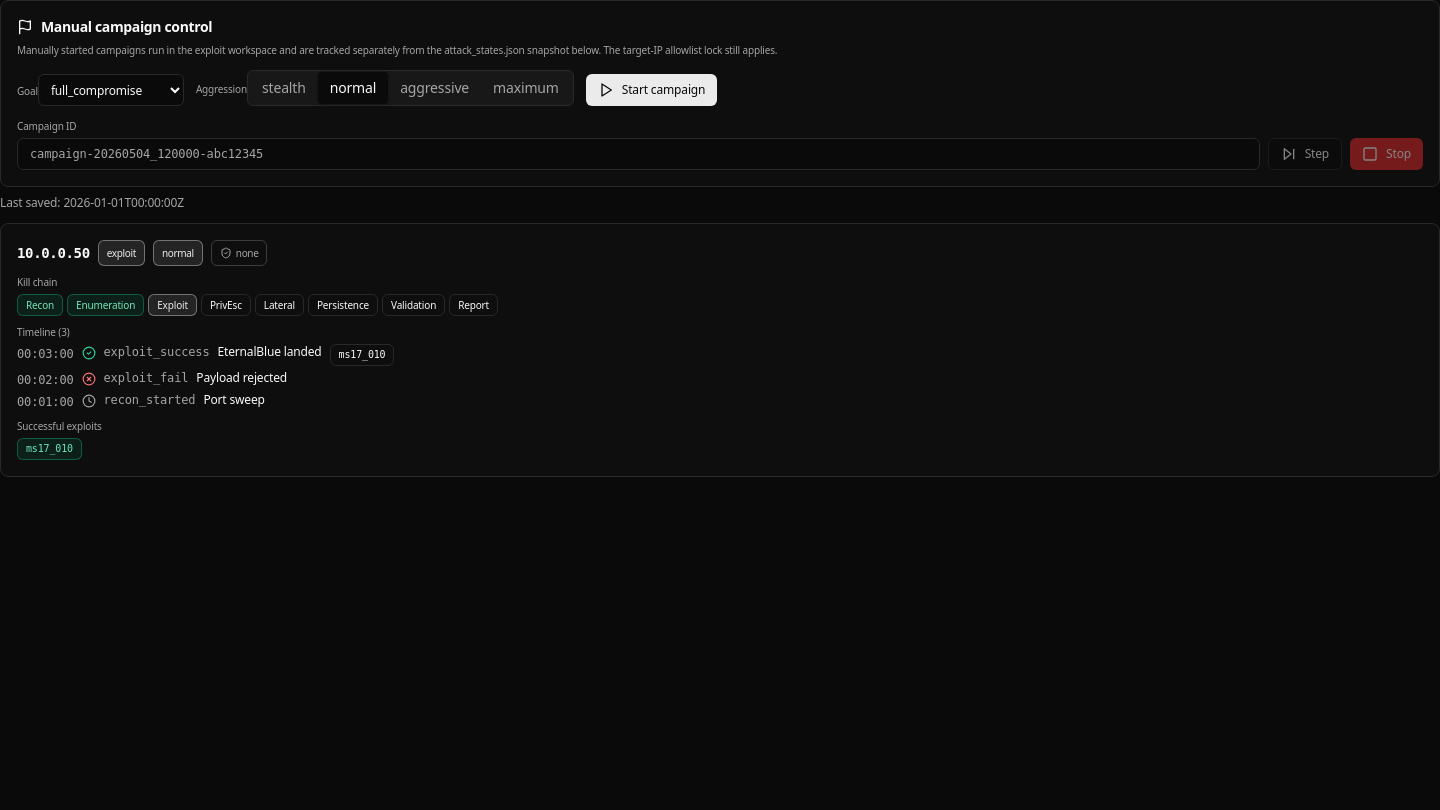
Test: Campaign manual controls › step/stop are disabled without a campaign id and enabled once one is set
Expected: the button "Step" is disabled, [1268,138,1342,170]
Expected: the button "Stop" is disabled, [1350,138,1423,170]
Click the button "Start campaign": coordinates (652, 90) [586,74,717,106]
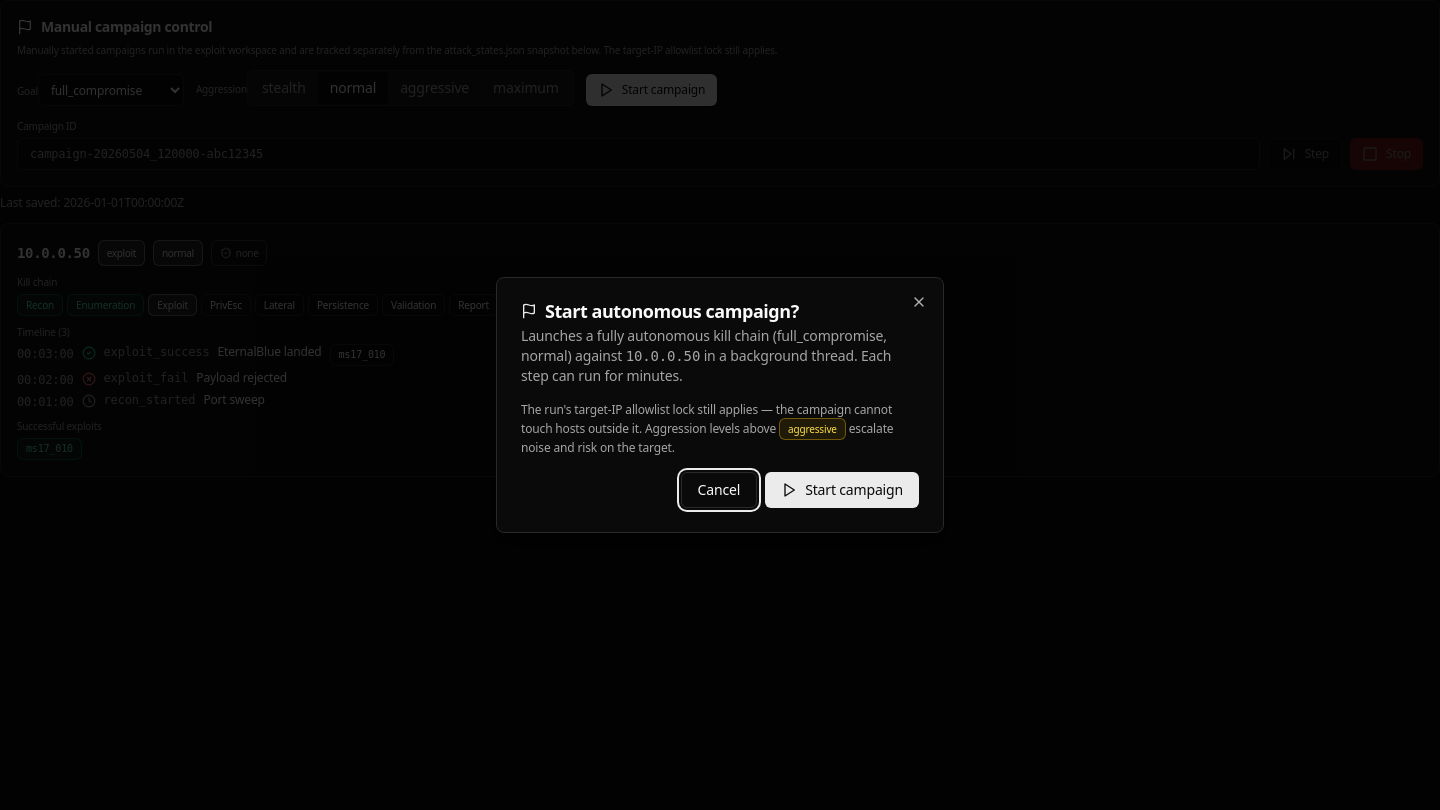
Click the button "Start campaign": coordinates (842, 490) [765,472,919,508]
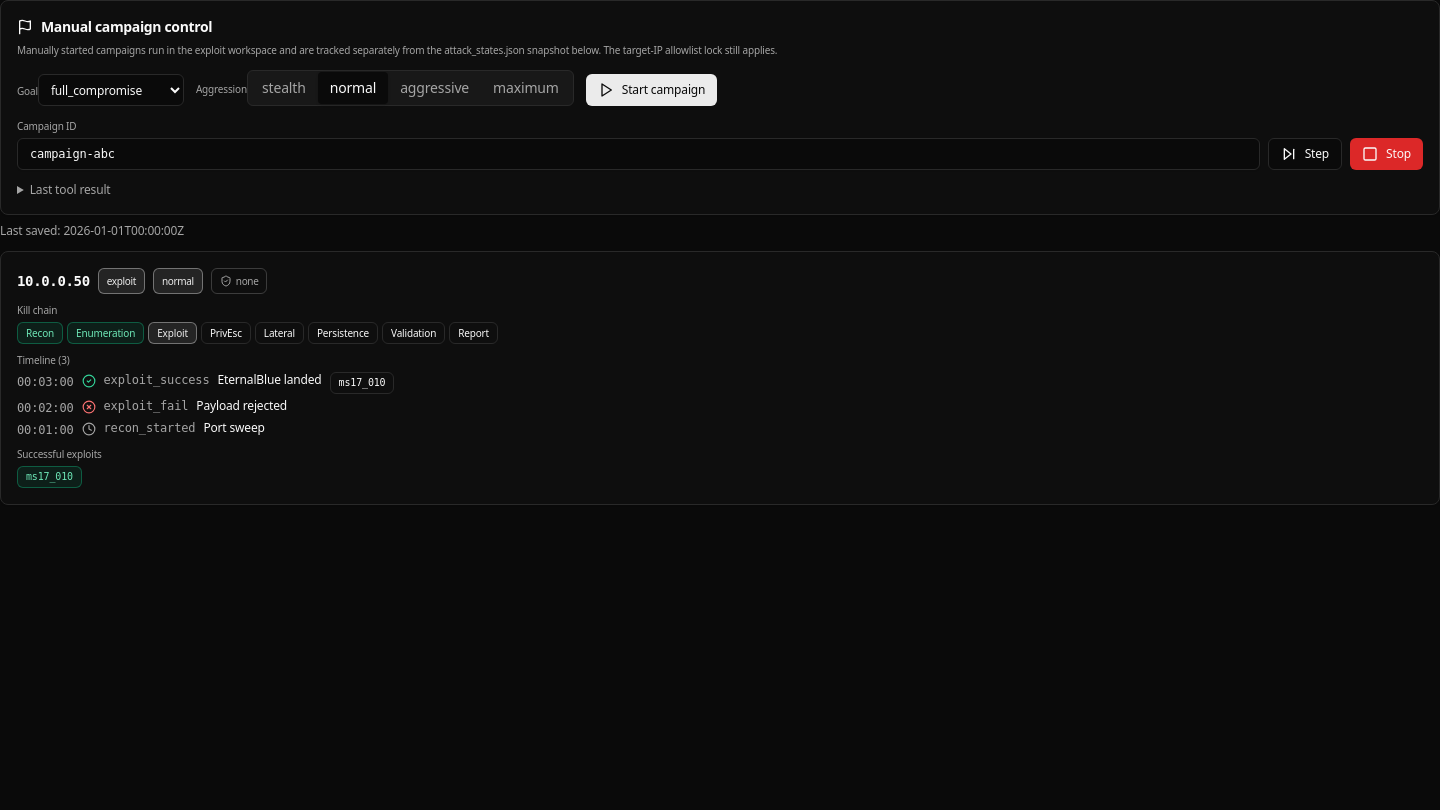
Now the field showing "campaign-abc" is shown, box [17,138,1260,170]
Now the button "Step" is enabled, box [1268,138,1342,170]
Now the button "Stop" is enabled, box [1350,138,1423,170]
